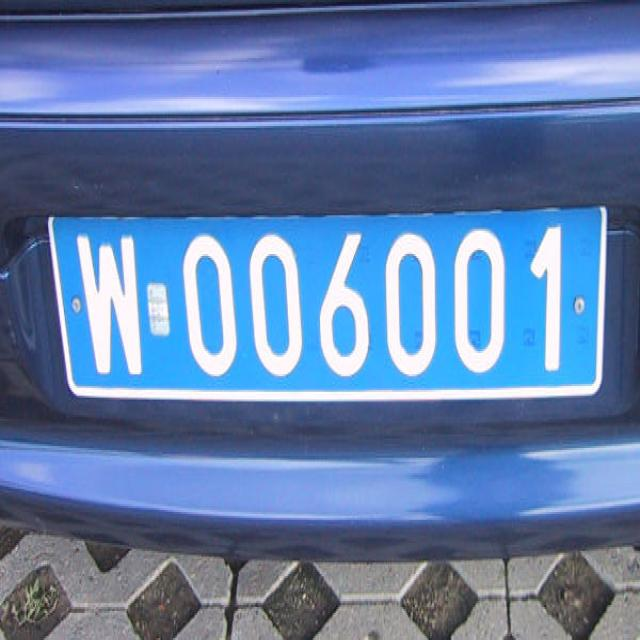pl_license_plate: (47, 205, 605, 398)
